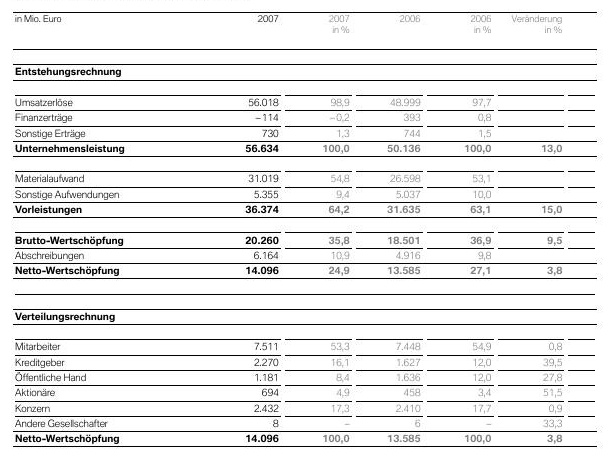table: (0, 0, 610, 458)
